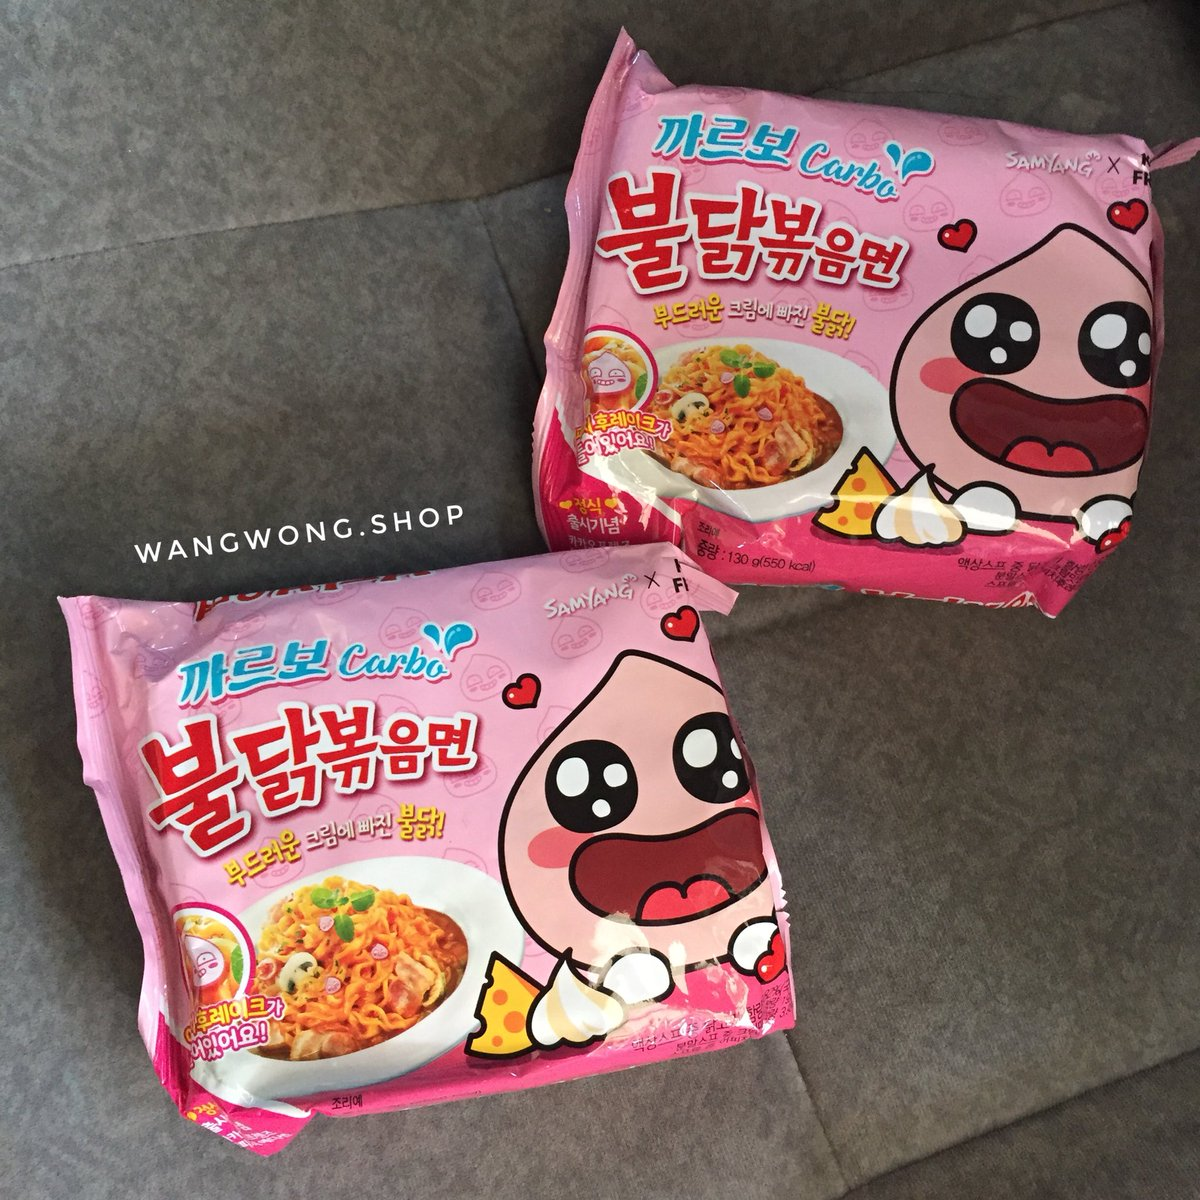Snack: (520, 23, 1182, 633)
